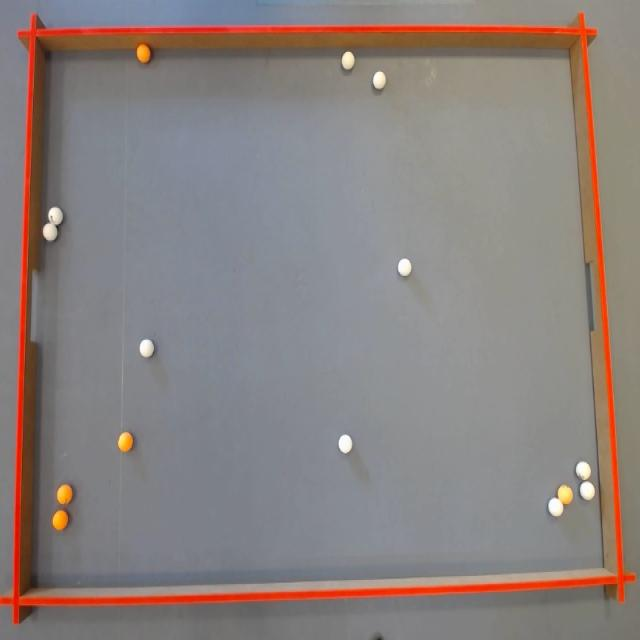orange_ball: (52, 510, 69, 531), (56, 484, 72, 505), (118, 432, 133, 452), (136, 43, 151, 63), (558, 485, 572, 504)
white_ball: (580, 481, 596, 501), (48, 206, 64, 226), (548, 497, 563, 517), (139, 339, 154, 358), (338, 434, 352, 454), (576, 461, 590, 481), (43, 222, 57, 242), (372, 71, 386, 90), (398, 258, 411, 276), (342, 51, 354, 69)
